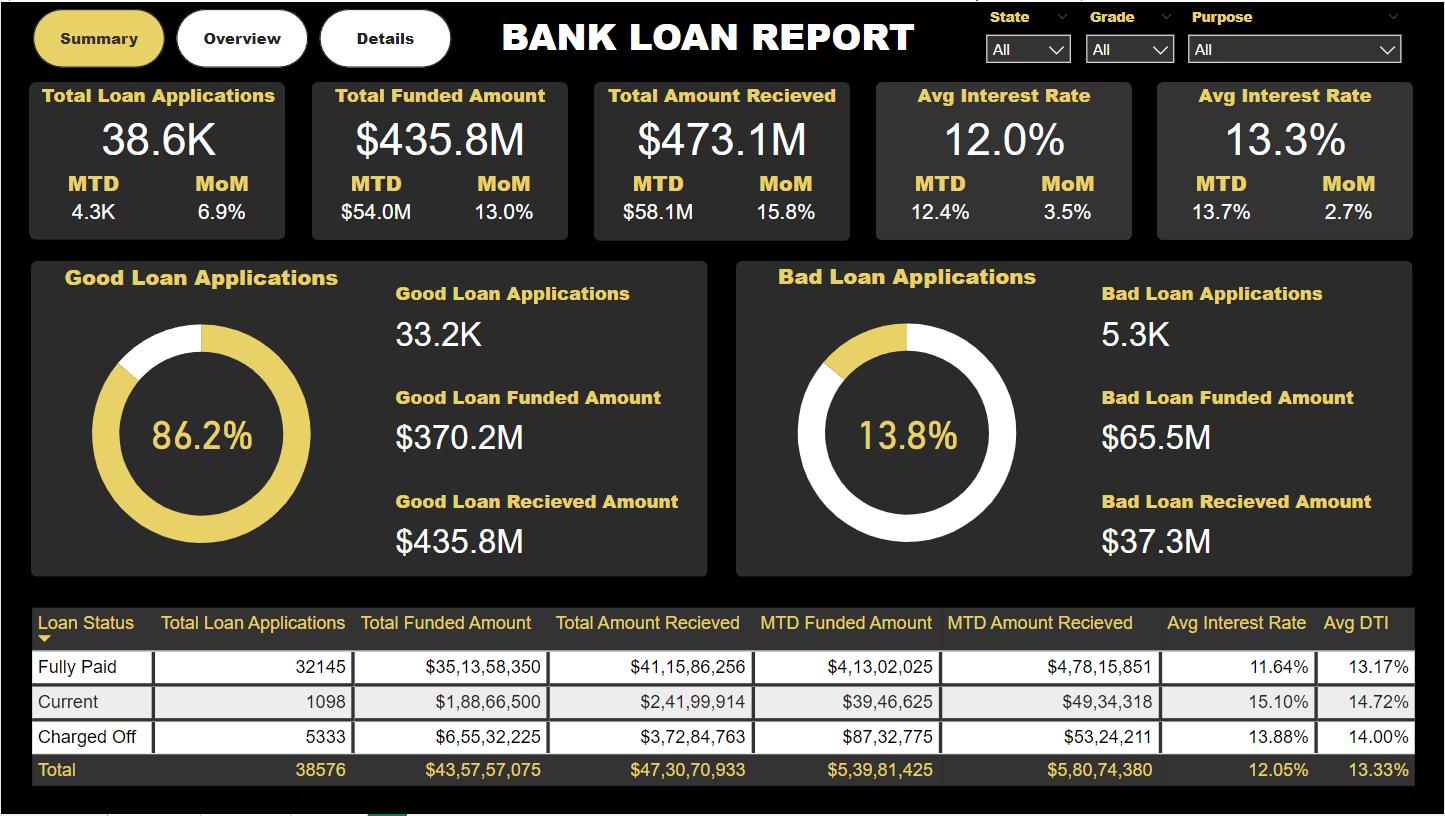

What the dashboard file says about the page in this screenshot:
{"tool":"powerbi","page":{"name":"Summary","canvas":[1280,720],"ordinal":0},"visuals":[{"type":"group","id":"g1","title":"Group 1","box":[25.2,71.1,227.6,140.3],"z":0},{"type":"shape","box":[275.9,71.1,227,140.3],"z":0,"group":"g2"},{"type":"shape","box":[525.8,71.1,227,140.9],"z":0,"group":"g3"},{"type":"shape","box":[775.6,71.1,227,140.3],"z":0,"group":"g4"},{"type":"shape","box":[1025.4,71.1,227,140.3],"z":0,"group":"g5"},{"type":"shape","box":[25.2,71.5,227.3,140],"z":0,"group":"g1"},{"type":"card","title":"Total Loan Applications","fields":{"Values":["bank_loan_data.Total Loan Applications"]},"box":[27.1,71.1,225.7,75.9],"z":1000,"group":"g1"},{"type":"group","id":"g2","title":"Group 1","box":[275.9,71.1,226.7,140.3],"z":1000},{"type":"card","title":"Total Funded Amount","fields":{"Values":["bank_loan_data.Total Funded Amount"]},"box":[275.9,71.1,227,74.9],"z":1000,"group":"g2"},{"type":"card","title":"Total Amount Recieved","fields":{"Values":["bank_loan_data.Total Amount Recieved"]},"box":[525.8,71.1,227,75.3],"z":1000,"group":"g3"},{"type":"card","title":"Avg Interest Rate","fields":{"Values":["bank_loan_data.Average Interest Rate"]},"box":[775.6,71.1,227,74.9],"z":1000,"group":"g4"},{"type":"card","title":"Avg Interest Rate","fields":{"Values":["bank_loan_data.Avg DTI"]},"box":[1025.4,71.1,227,74.9],"z":1000,"group":"g5"},{"type":"group","id":"g3","title":"Group 1","box":[525.8,71.1,226.7,140.3],"z":2000},{"type":"card","title":"MTD","fields":{"Values":["bank_loan_data.MTD Funded Amount"]},"box":[275.9,146,113.9,54.2],"z":2000,"group":"g2"},{"type":"card","title":"MTD","fields":{"Values":["bank_loan_data.MTD Avg Interest Rate"]},"box":[775.6,146,113.9,54.2],"z":2000,"group":"g4"},{"type":"card","title":"MTD","fields":{"Values":["bank_loan_data.MTD Average DTI"]},"box":[1025.4,146,113.9,54.2],"z":2000,"group":"g5"},{"type":"card","title":"MTD","fields":{"Values":["bank_loan_data.MTD Loan Applications"]},"box":[25.2,146.2,114.1,54.1],"z":2000,"group":"g1"},{"type":"card","title":"MTD","fields":{"Values":["bank_loan_data.MTD Amount Recieved"]},"box":[525.8,146.4,113.9,54.4],"z":2000,"group":"g3"},{"type":"group","id":"g4","title":"Group 1","box":[775.6,71.1,226.7,140.3],"z":3000},{"type":"card","title":"MoM","fields":{"Values":["bank_loan_data.MoM Funded Amount"]},"box":[389.8,146,113.1,54.2],"z":3000,"group":"g2"},{"type":"card","title":"MoM","fields":{"Values":["bank_loan_data.MoM Avg Interest Rate"]},"box":[889.5,146,113.1,54.2],"z":3000,"group":"g4"},{"type":"card","title":"MoM","fields":{"Values":["bank_loan_data.MoM Avgerage DTI"]},"box":[1139.3,146,113.1,54.2],"z":3000,"group":"g5"},{"type":"card","title":"MoM","fields":{"Values":["bank_loan_data.MoM Loan Application"]},"box":[139.3,146.2,113.3,54.1],"z":3000,"group":"g1"},{"type":"card","title":"MoM","fields":{"Values":["bank_loan_data.MoM Amount Recieved"]},"box":[639.7,146.4,113.1,54.4],"z":3000,"group":"g3"},{"type":"group","id":"g5","title":"Group 1","box":[1025.4,71.1,227,140.3],"z":4000},{"type":"shape","box":[27,229.4,600,280],"z":5000},{"type":"shape","box":[652.1,229.4,600,280],"z":6000},{"type":"donutChart","title":"Good Loan Applications","fields":{"Category":["bank_loan_data.Good v Bad Loan"],"Y":["bank_loan_data.Total Loan Applications"]},"box":[28.7,229.6,298.5,279.3],"z":7000},{"type":"card","fields":{"Values":["bank_loan_data.Good Loan %"]},"box":[126.8,360,102.9,41.7],"z":8000},{"type":"cardVisual","fields":{"Data":["bank_loan_data.Good Loan Applications","bank_loan_data.Good Loan Funded Amount","bank_loan_data.Good Loan Recieved Amount"]},"box":[332.5,229.7,294.4,279.3],"z":9000},{"type":"donutChart","title":"Bad Loan Applications","fields":{"Category":["bank_loan_data.Good v Bad Loan"],"Y":["bank_loan_data.Total Loan Applications"]},"box":[654.4,228.8,297.9,279.3],"z":10000},{"type":"cardVisual","fields":{"Data":["bank_loan_data.Bad Loan Applications","bank_loan_data.Bad Loan Funded Amount","bank_loan_data.Bad Loan Recieved Amount"]},"box":[958.5,229.7,294.4,279.3],"z":11000},{"type":"shape","box":[0,0,1280,57.4],"z":12000},{"type":"card","fields":{"Values":["bank_loan_data.Bad Loan %"]},"box":[751.9,360,102.9,41.7],"z":13000},{"type":"tableEx","title":"LOAN STATUS","fields":{"Values":["bank_loan_data.loan_status","bank_loan_data.Total Loan Applications","bank_loan_data.Total Funded Amount","bank_loan_data.Total Amount Recieved","bank_loan_data.MTD Funded Amount","bank_loan_data.MTD Amount Recieved","bank_loan_data.Avg Interest Rate","bank_loan_data.Avg DTI"]},"box":[26.6,532,1227.2,175.6],"z":14000},{"type":"textbox","box":[425.6,8,402.6,49.7],"z":15000},{"type":"slicer","fields":{"Values":["bank_loan_data.address_state"]},"box":[863.6,0,94.9,57.6],"z":16000},{"type":"slicer","fields":{"Values":["bank_loan_data.purpose"]},"box":[1042.8,0,209.3,57.6],"z":17000},{"type":"slicer","fields":{"Values":["bank_loan_data.grade"]},"box":[952.3,0,98.4,57.6],"z":18000},{"type":"pageNavigator","box":[28.4,6.2,371.5,52.3],"z":19000}]}

Visuals, with their boxes in screenshot pixels (x1, y1, x2, y2), scaled from the page's 1280x720 canvas onto the 1445x816 screenshot:
"Group 1" group: 28:81:285:240
shape: 311:81:568:240
shape: 594:81:850:240
shape: 876:81:1132:240
shape: 1158:81:1414:240
shape: 28:81:285:240
"Total Loan Applications" card: 31:81:285:167
"Group 1" group: 311:81:567:240
"Total Funded Amount" card: 311:81:568:165
"Total Amount Recieved" card: 594:81:850:166
"Avg Interest Rate" card: 876:81:1132:165
"Avg Interest Rate" card: 1158:81:1414:165
"Group 1" group: 594:81:850:240
"MTD" card: 311:165:440:227
"MTD" card: 876:165:1004:227
"MTD" card: 1158:165:1286:227
"MTD" card: 28:166:157:227
"MTD" card: 594:166:722:228
"Group 1" group: 876:81:1132:240
"MoM" card: 440:165:568:227
"MoM" card: 1004:165:1132:227
"MoM" card: 1286:165:1414:227
"MoM" card: 157:166:285:227
"MoM" card: 722:166:850:228
"Group 1" group: 1158:81:1414:240
shape: 30:260:708:577
shape: 736:260:1414:577
"Good Loan Applications" donutChart: 32:260:369:577
card - bank_loan_data.Good Loan %: 143:408:259:455
cardVisual - bank_loan_data.Good Loan Applications x bank_loan_data.Good Loan Funded Amount: 375:260:708:577
"Bad Loan Applications" donutChart: 739:259:1075:576
cardVisual - bank_loan_data.Bad Loan Applications x bank_loan_data.Bad Loan Funded Amount: 1082:260:1414:577
shape: 0:0:1444:65
card - bank_loan_data.Bad Loan %: 849:408:965:455
"LOAN STATUS" tableEx: 30:603:1415:802
textbox: 480:9:935:65
slicer - bank_loan_data.address_state: 975:0:1082:65
slicer - bank_loan_data.purpose: 1177:0:1414:65
slicer - bank_loan_data.grade: 1075:0:1186:65
pageNavigator: 32:7:451:66
